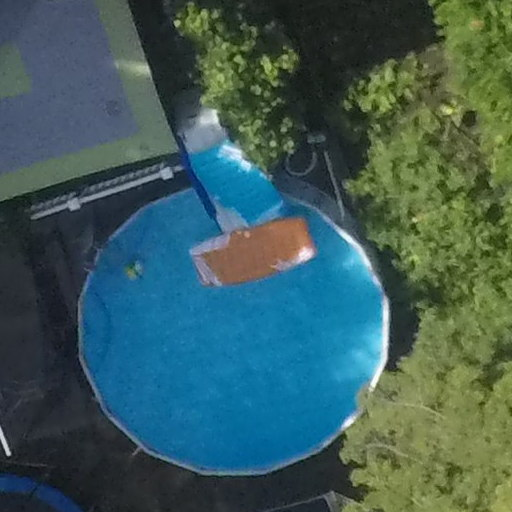pool: (70, 120, 389, 492)
